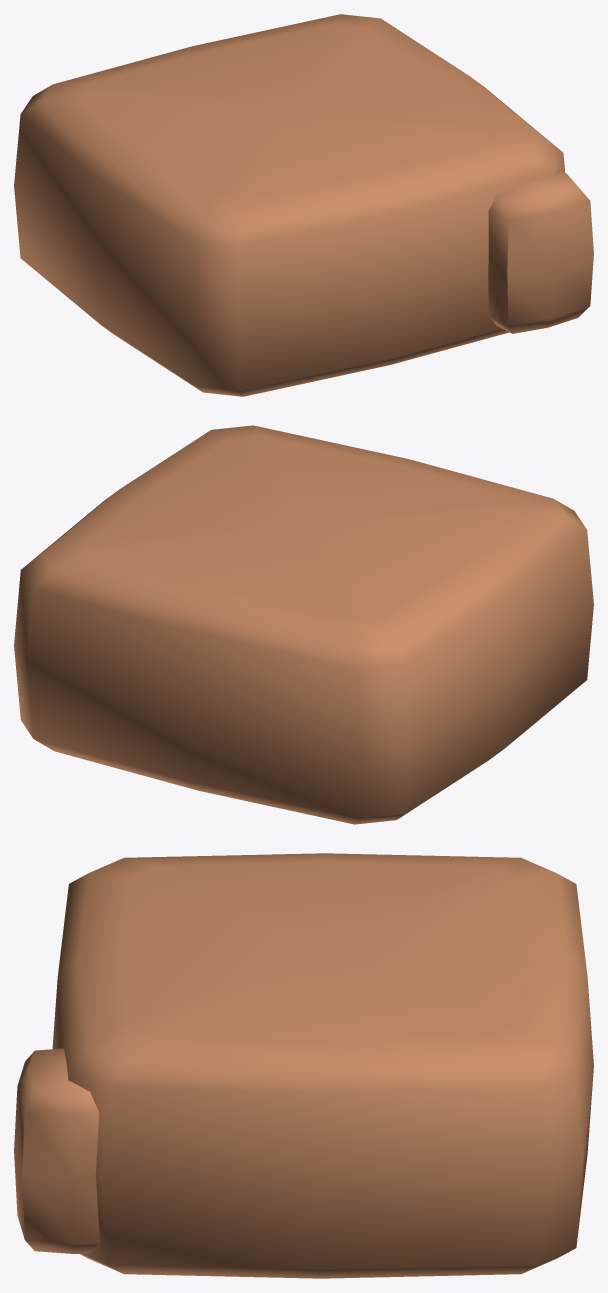
The model's file is Cuerpo_RightHand.fbx.
The picture shows the model from 3 angles, top to bottom: view 1: azimuth 30°, elevation 25°; view 2: azimuth 150°, elevation 25°; view 3: azimuth 270°, elevation 25°; orthographic projection. The views are drawn at different scales.
Visible parts, largest first — view 1: Cuerpo_RightHand; view 2: Cuerpo_RightHand; view 3: Cuerpo_RightHand.
Boxes of the visible parts, x1,y1,x2,y2 form: Cuerpo_RightHand: (14, 14, 593, 396); Cuerpo_RightHand: (14, 425, 593, 824); Cuerpo_RightHand: (14, 853, 593, 1278).
Size of the model in its own units: 0.8465 by 0.3947 by 0.8792.
